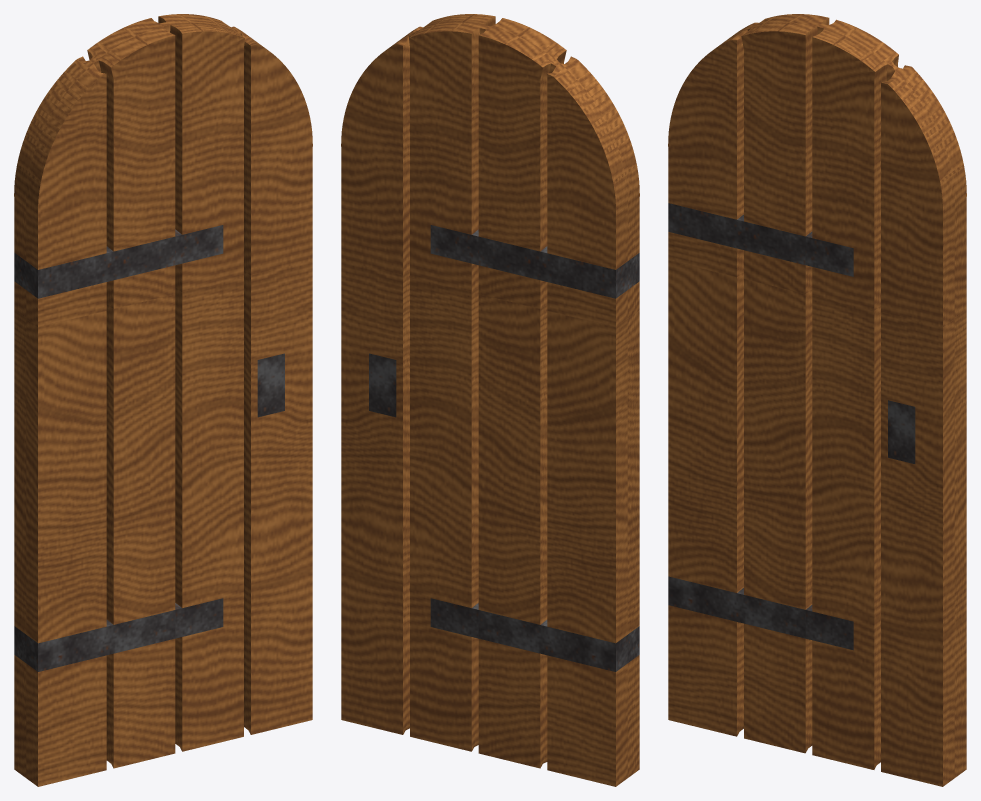
File: door_round.glb
3 views of the same model, side by side, from view 1: azimuth 30°, elevation 25°; view 2: azimuth 150°, elevation 25°; view 3: azimuth 330°, elevation 25° (orthographic).
Parts seen in each view (by area): view 1: town_door_round; view 2: town_door_round; view 3: town_door_round.
Boxes of the visible parts, x1,y1,x2,y2 form: town_door_round: [14, 14, 312, 786]; town_door_round: [341, 14, 639, 786]; town_door_round: [668, 14, 966, 786].
Size of the model in its own units: 0.6263 by 1.56 by 0.0938.
1 material, 1 textured.
